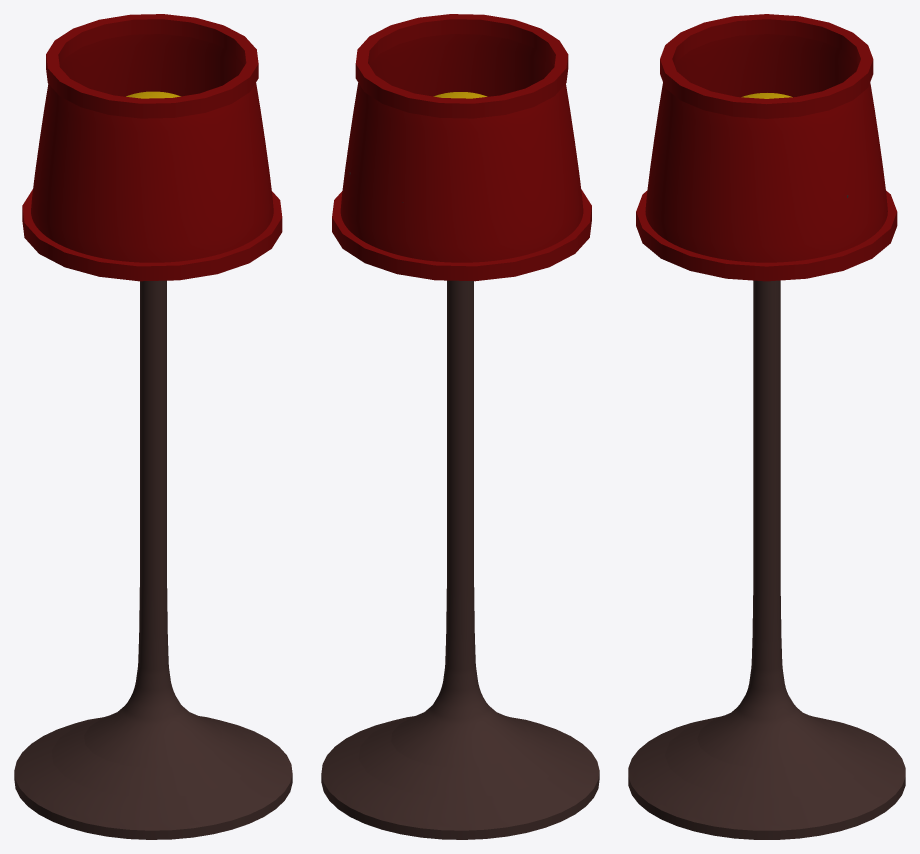
File: LampeSalon1_2.fbx
3 renders of one model, left to right at view 1: azimuth 30°, elevation 25°; view 2: azimuth 150°, elevation 25°; view 3: azimuth 270°, elevation 25°, orthographic.
Visible parts, largest first — view 1: pPipe203, pCylinder1745, pPipe202, pPipe204; view 2: pPipe203, pCylinder1745, pPipe202, pPipe204; view 3: pPipe203, pCylinder1745, pPipe202, pPipe204.
Part boxes in pixels (<box>): pPipe203: <box>31,34,273,262</box>; pCylinder1745: <box>14,280,292,839</box>; pPipe202: <box>46,14,258,118</box>; pPipe204: <box>22,189,282,281</box>; pPipe203: <box>340,34,583,262</box>; pCylinder1745: <box>321,280,599,839</box>; pPipe202: <box>355,14,568,118</box>; pPipe204: <box>332,189,591,281</box>; pPipe203: <box>645,34,887,262</box>; pCylinder1745: <box>628,280,905,839</box>; pPipe202: <box>660,14,873,118</box>; pPipe204: <box>636,190,897,281</box>.
Size of the model in its own units: 30.29 by 87.06 by 30.29.
